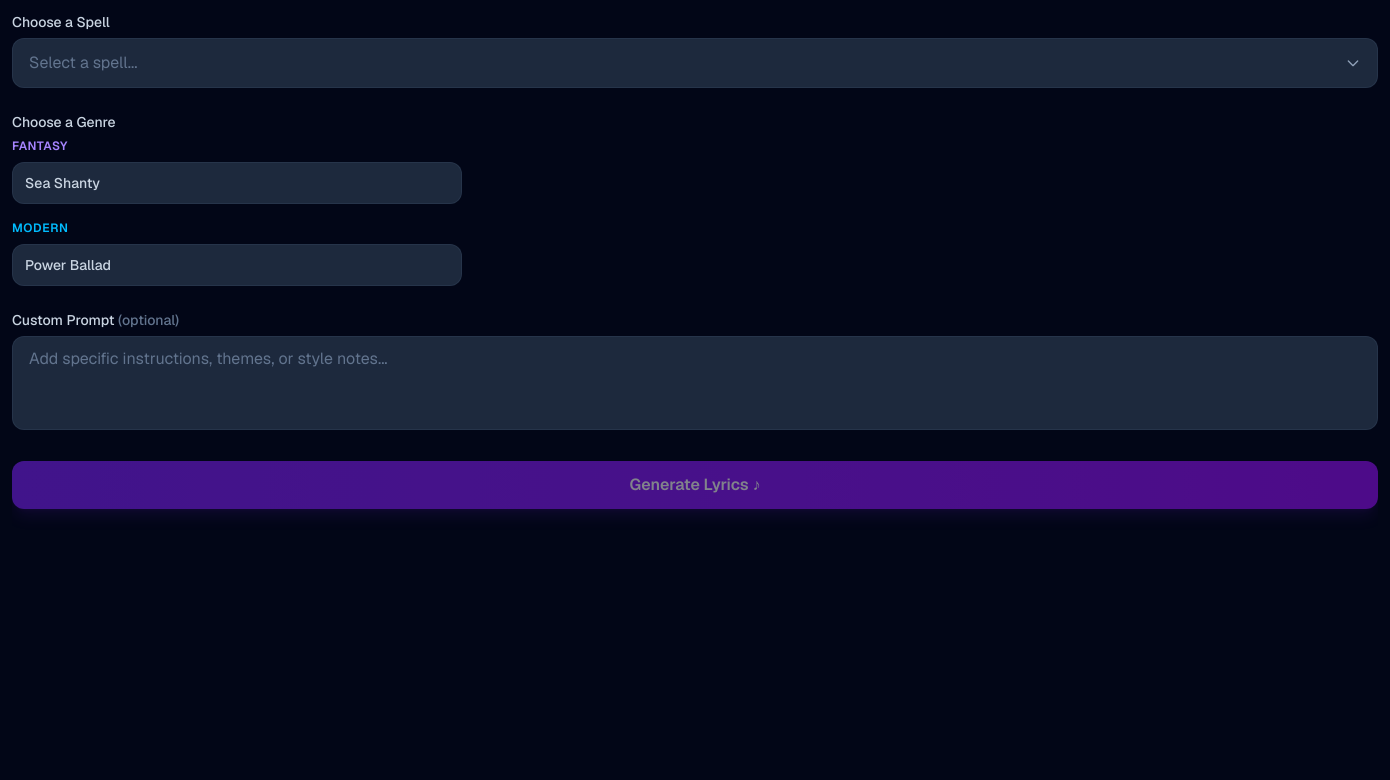
Test: GenerateForm › the empty-selection guard › refuses a submit with only a spell selected
The width and height of the screenshot is (1390, 780).
Click the button "Select a spell..." at x=83, y=62, box [12,38,1378,88]
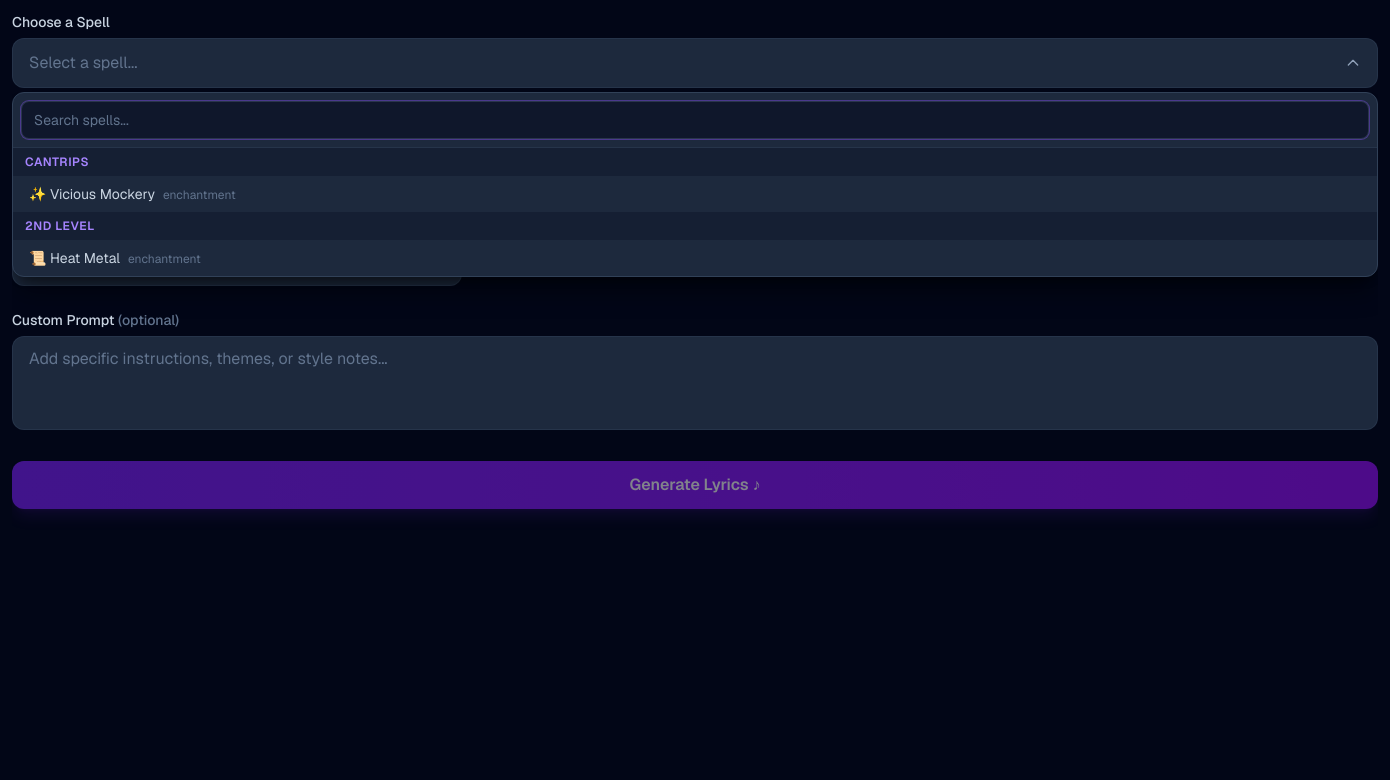
Click the button "Vicious Mockery" at x=102, y=194, box [13,176,1377,212]
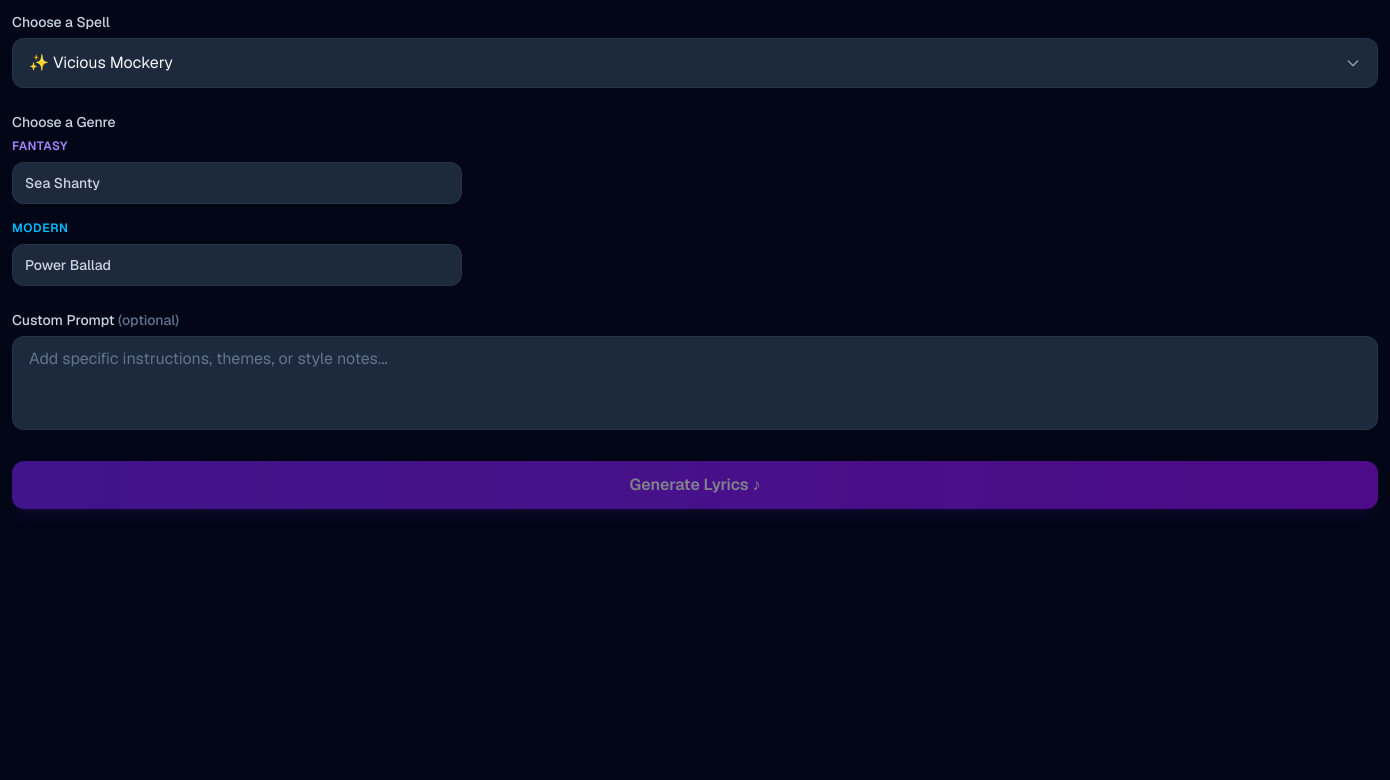
Submit the form
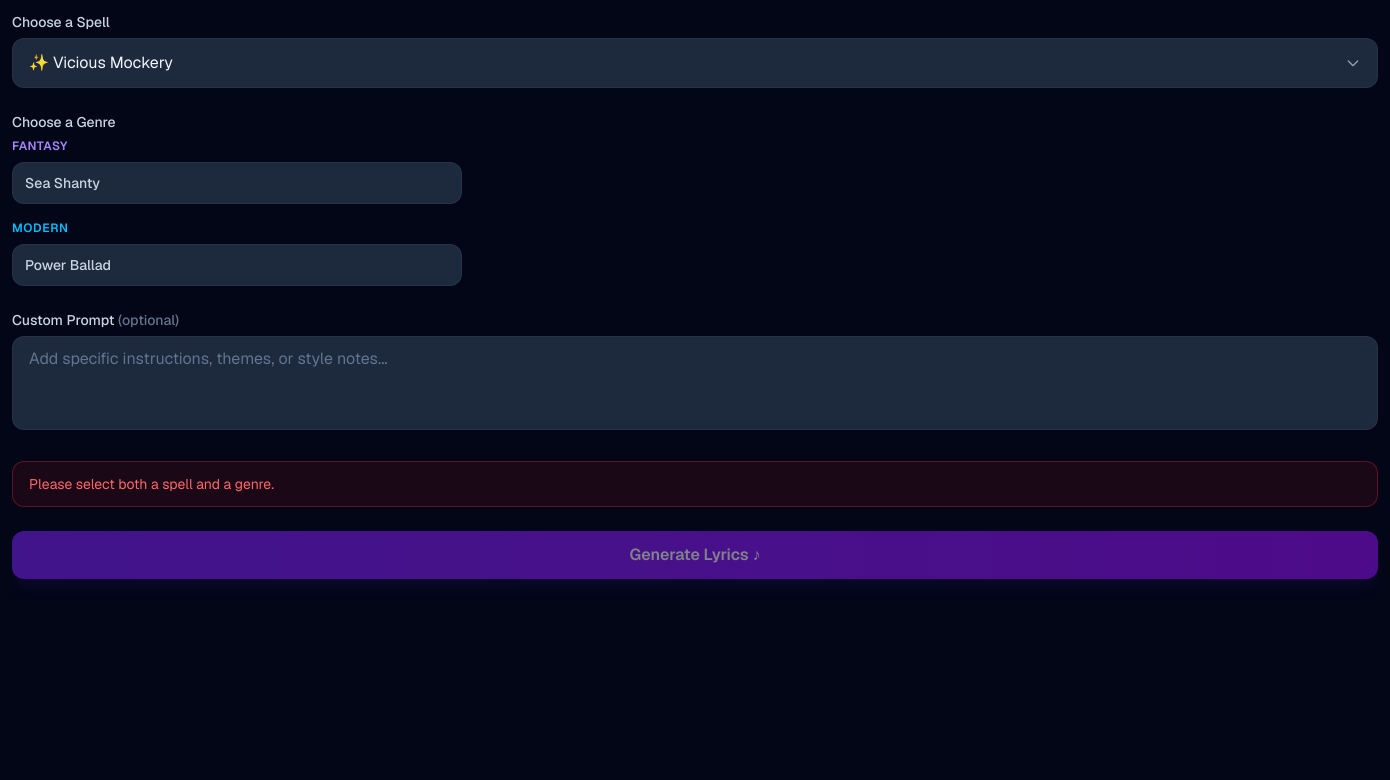
Now the text "Please select both a spell and a genre." is shown, box [12,461,1378,507]
